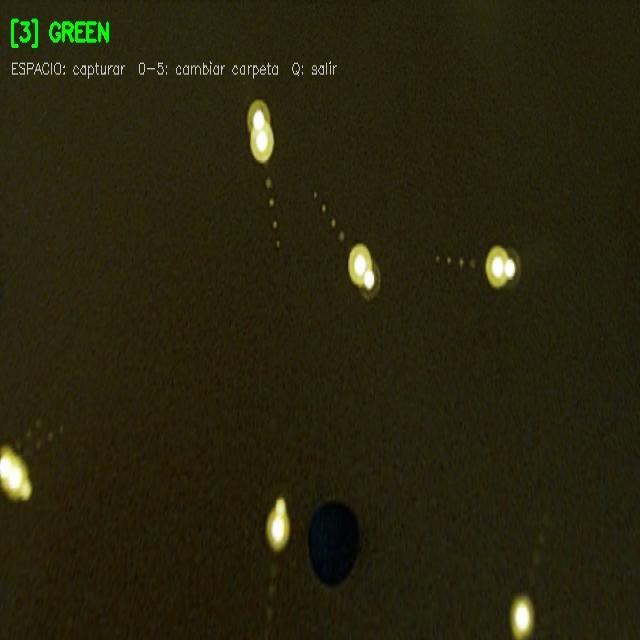green: (308, 502, 356, 580)
